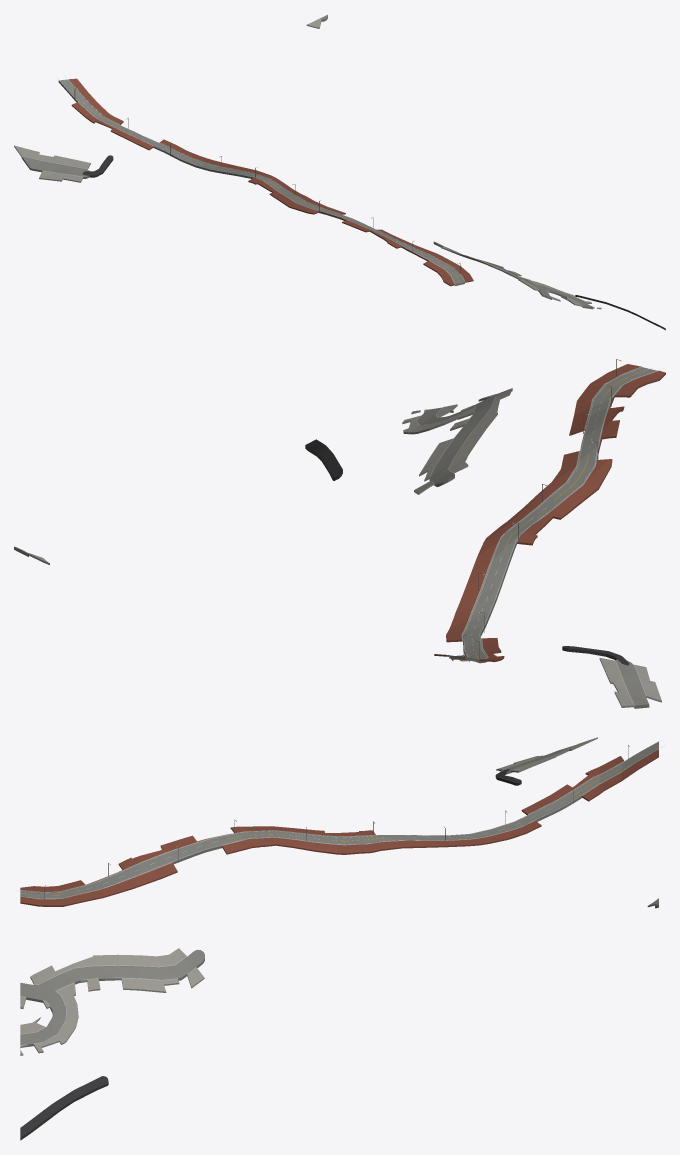
The picture shows the model from 3 angles, top to bottom: view 1: azimuth 30°, elevation 25°; view 2: azimuth 150°, elevation 25°; view 3: azimuth 270°, elevation 25°; orthographic projection. The views are drawn at different scales.
Size of the model in its own units: 277 by 94.21 by 298.
